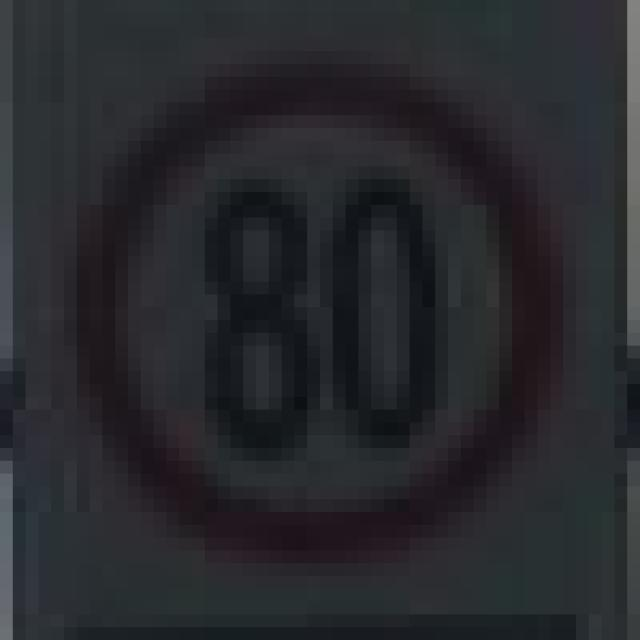speed_limit_50: (52, 52, 550, 550)
